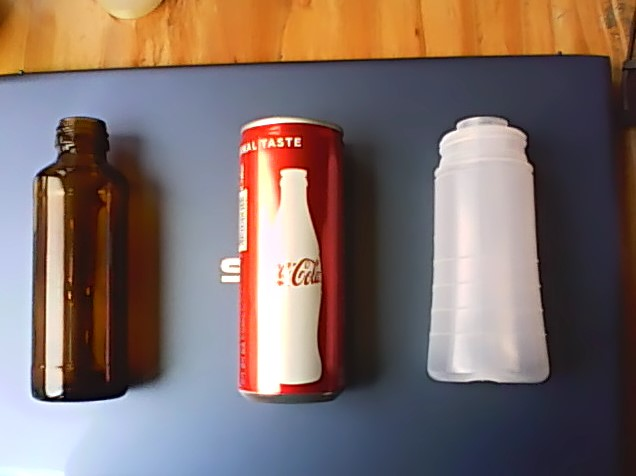Can: (231, 110, 350, 407)
Glass: (25, 111, 133, 406)
Plastic: (418, 113, 552, 389)
